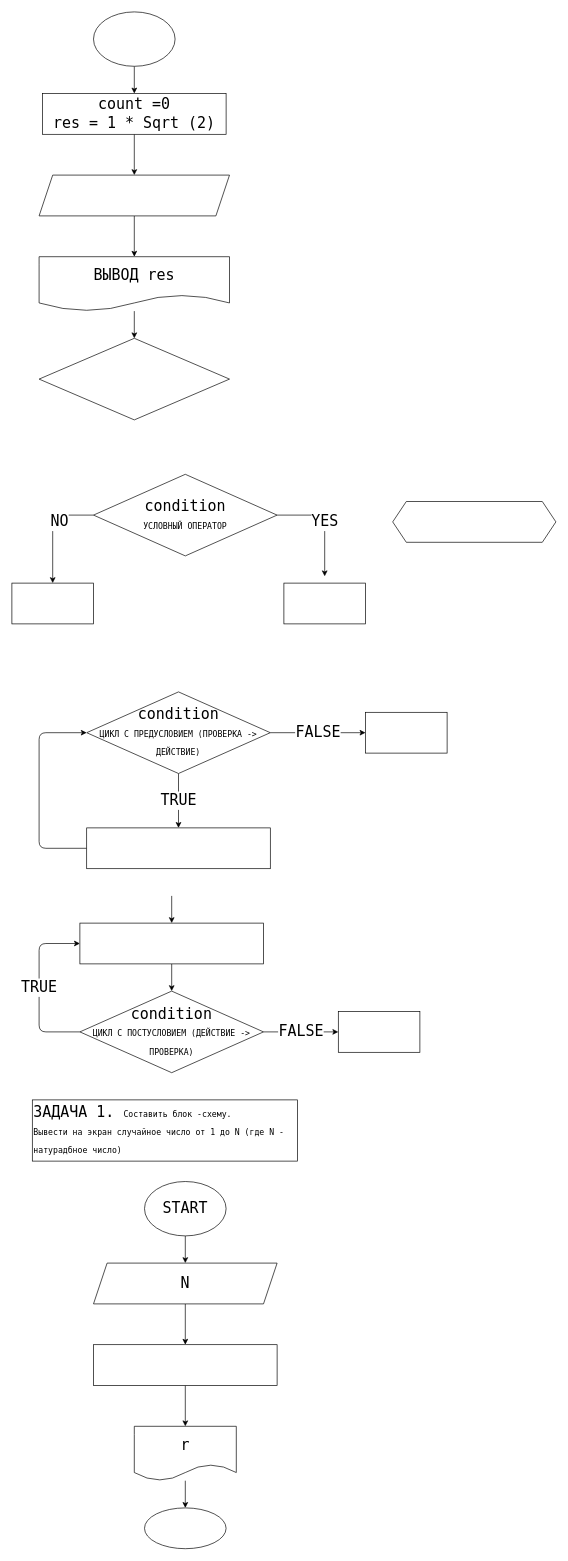
This 568x1561 diagram has some shape labels left out. Here are the shapes that lost their labels. From the top down, the centre of each, then its label:
[134,38]: START END
[134,195]: ВВОД count
[474,521]: count = 1, 10, 1 счетчик от 1 до 10 с шагом 1
[185,1365]: r = random(1,N)
[185,1528]: END
